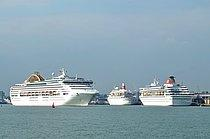Ship: (7, 66, 104, 112), (138, 73, 203, 113), (106, 80, 140, 108)
